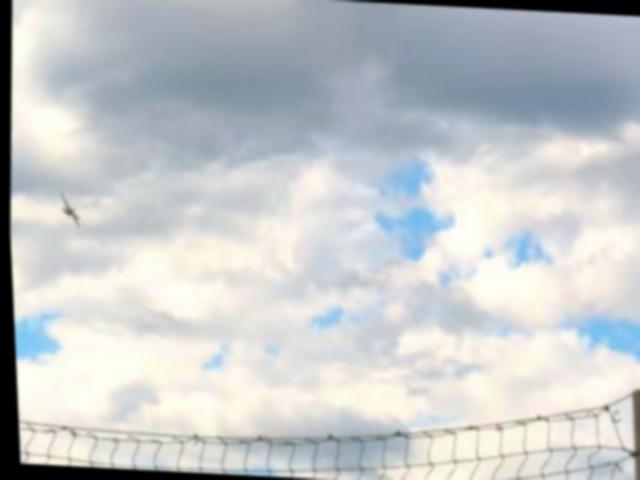uav: (54, 188, 83, 230)
